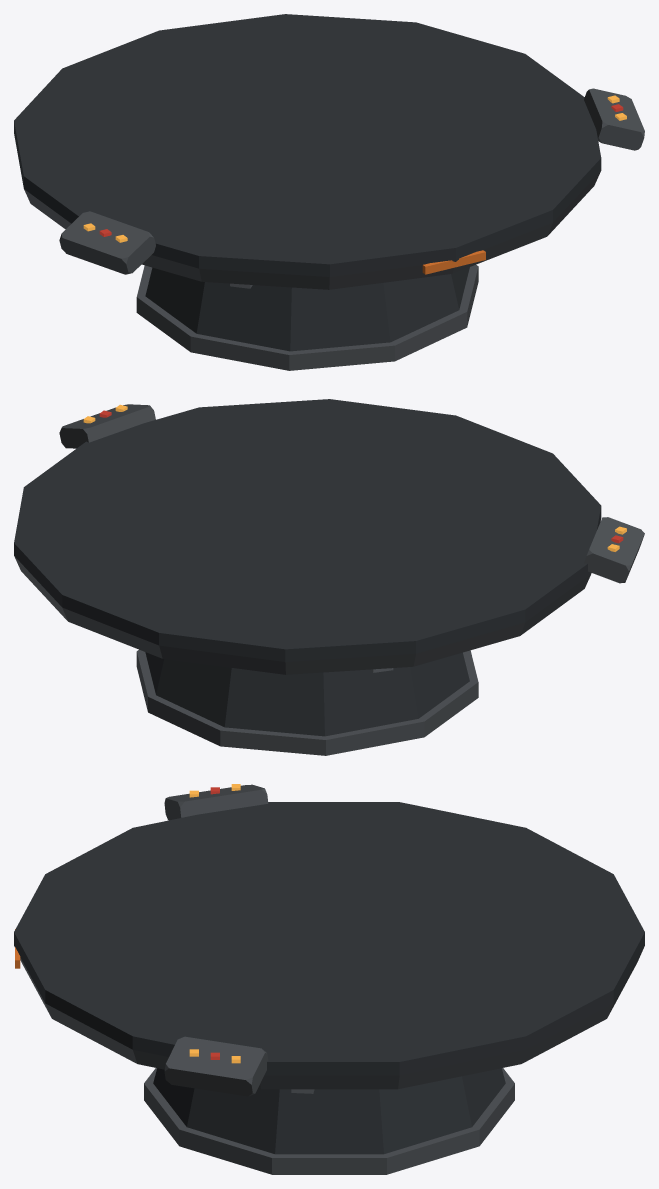
File: hum_holo_table.glb
3 views of the same model, one above another, from view 1: azimuth 30°, elevation 25°; view 2: azimuth 150°, elevation 25°; view 3: azimuth 270°, elevation 25° (orthographic). The views are drawn at different scales.
Parts seen in each view (by area): view 1: table; view 2: table; view 3: table.
Boxes of the visible parts, <box> form: table: <box>14,14,644,370</box>; table: <box>14,399,644,755</box>; table: <box>14,784,644,1174</box>.
Size of the model in its own units: 3.77 by 1.08 by 3.4.
Materials: 2 (2 with a texture image).
